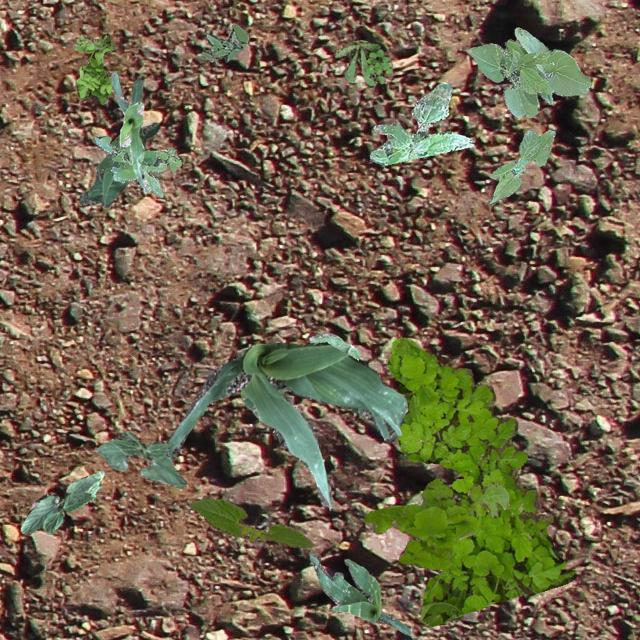crop: (168, 341, 406, 508), (466, 27, 590, 116), (78, 77, 158, 206), (308, 554, 408, 634), (188, 494, 312, 546), (20, 470, 104, 532), (96, 429, 186, 486), (488, 128, 554, 205), (110, 70, 150, 190), (307, 332, 358, 358)
weed: (387, 336, 576, 626), (362, 476, 508, 568), (368, 82, 472, 165), (92, 136, 180, 197), (73, 32, 114, 104), (334, 40, 392, 86), (200, 22, 248, 62)
